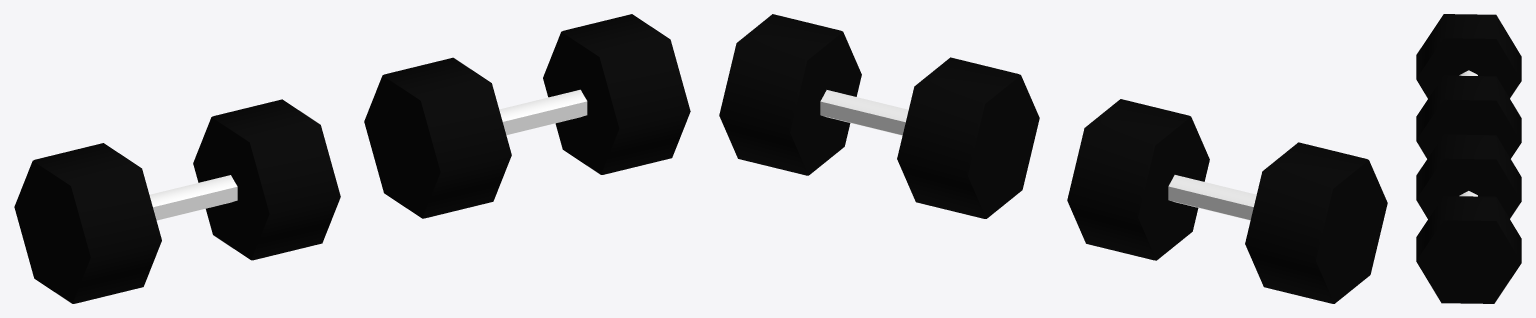
File: AF_M_Prop_04.FBX
3 views of the same model, side by side, from view 1: azimuth 30°, elevation 25°; view 2: azimuth 150°, elevation 25°; view 3: azimuth 270°, elevation 25° (orthographic). The views are drawn at different scales.
Visible parts, largest first — view 1: AF_M_Prop_04; view 2: AF_M_Prop_04; view 3: AF_M_Prop_04.
Boxes of the visible parts, x1=… form: AF_M_Prop_04: x1=14, y1=14, x2=690, y2=303; AF_M_Prop_04: x1=719, y1=14, x2=1387, y2=303; AF_M_Prop_04: x1=1416, y1=14, x2=1521, y2=303.
Size of the model in its own units: 835 by 158 by 180.
Materials: 1 (1 with a texture image).
